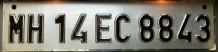character: (70, 11, 87, 45), (94, 12, 112, 43), (27, 12, 44, 44), (8, 12, 24, 44), (114, 13, 131, 43), (138, 13, 155, 43), (157, 13, 174, 42), (176, 12, 192, 42), (195, 13, 210, 43), (54, 12, 66, 44)
